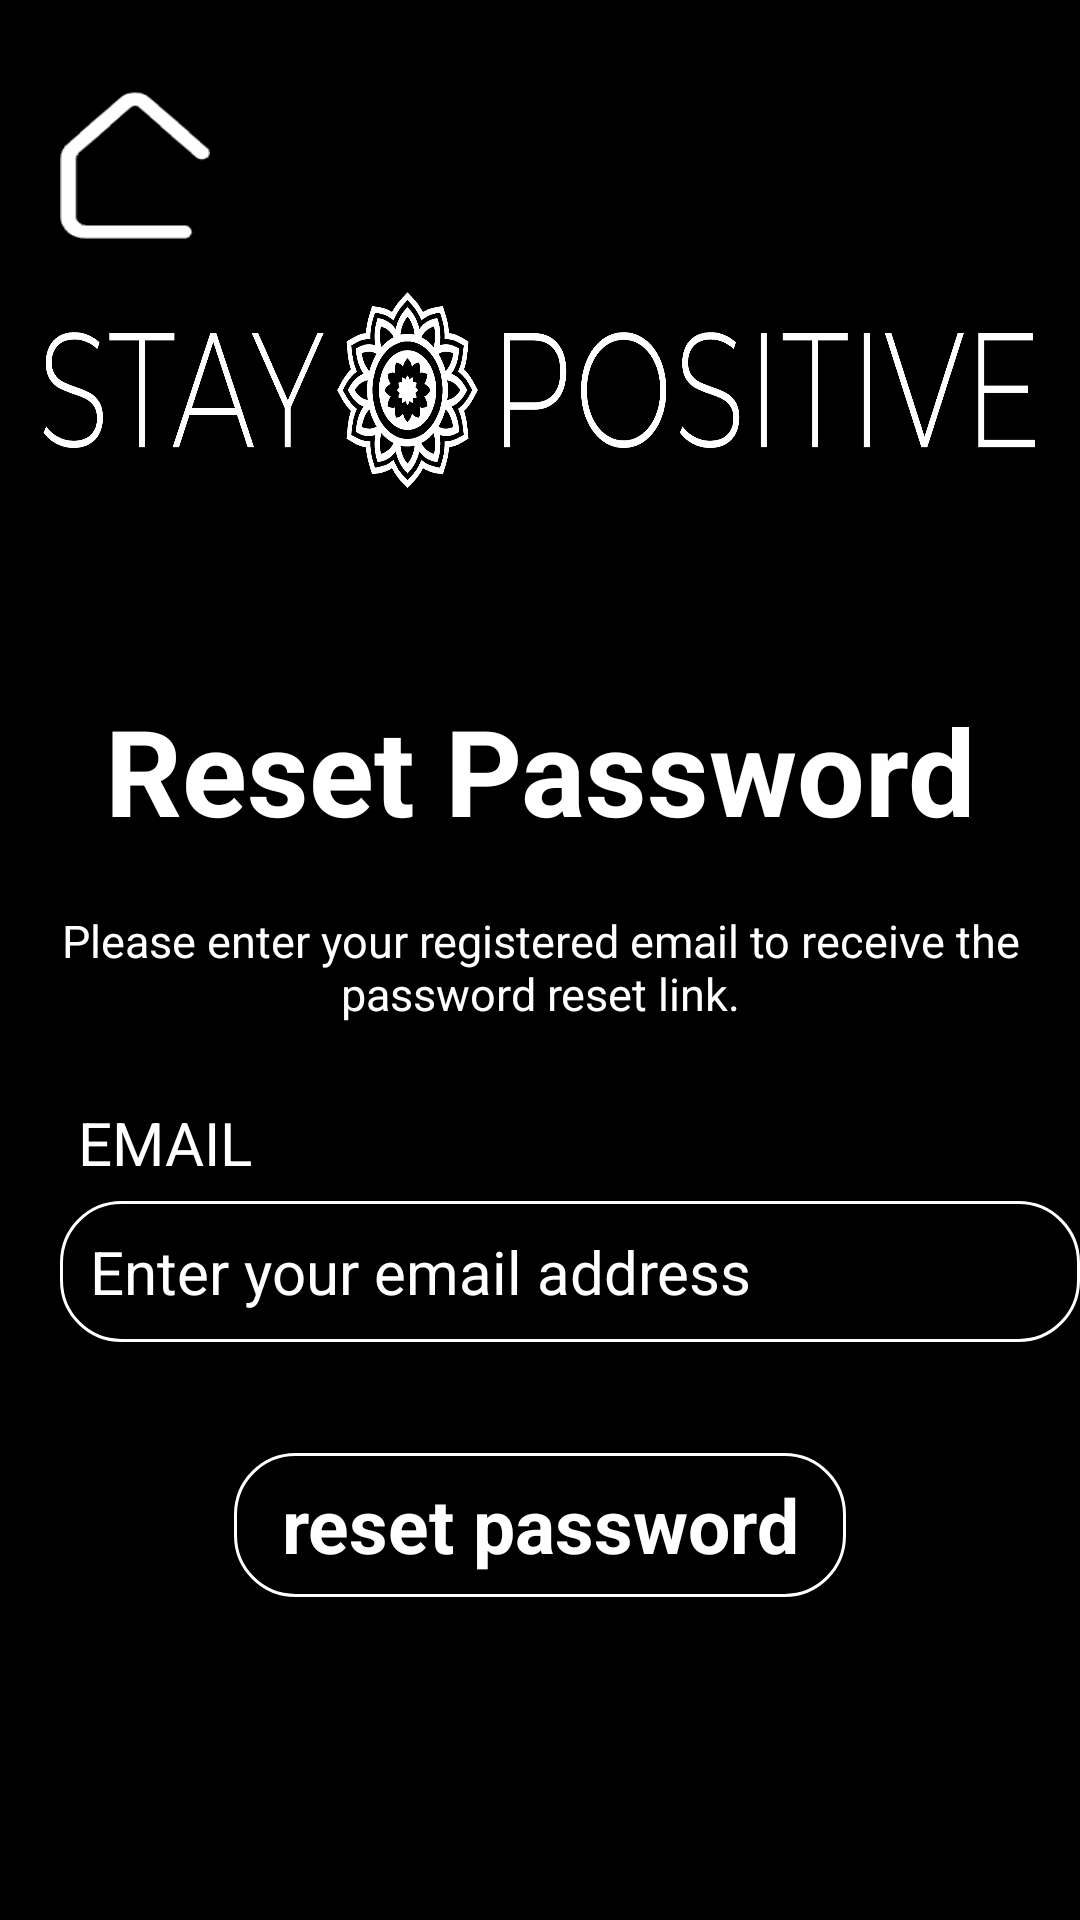

Icon bounding boxes for this 1080 × 1920 phone screenshot, format (x1, y1, x2, y2):
home: (60, 92, 210, 239)
